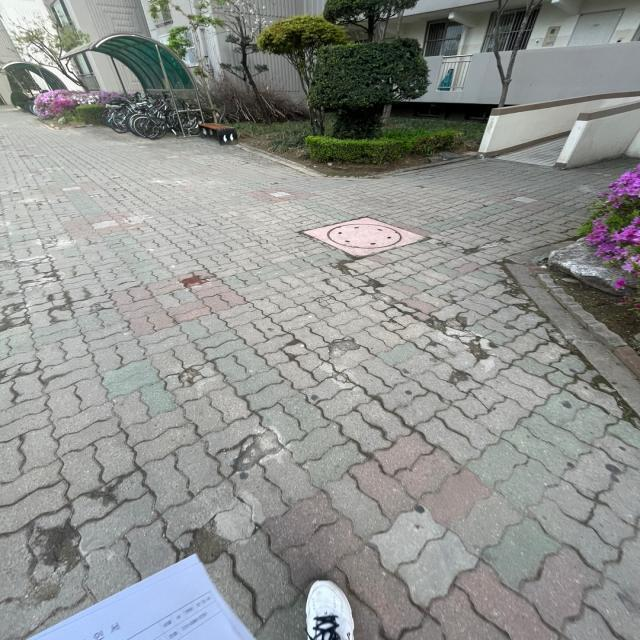manhole: (299, 217, 427, 263)
